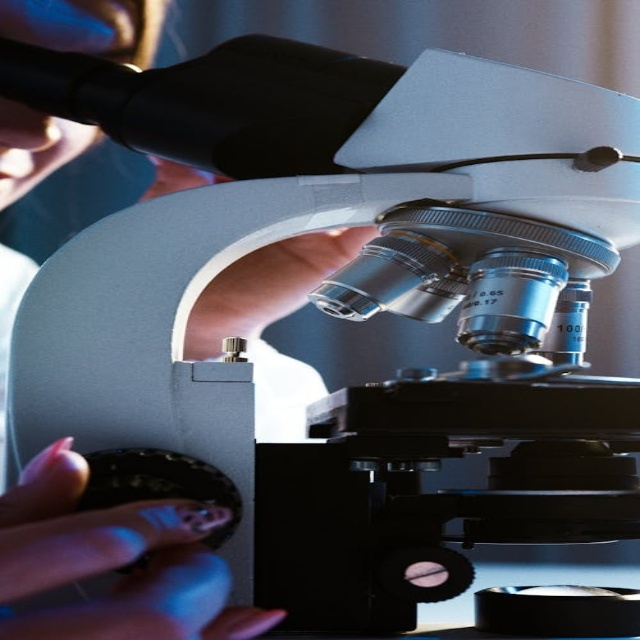Sin_guantes: (0, 434, 275, 640)
Sin_mascara: (1, 145, 41, 215)
